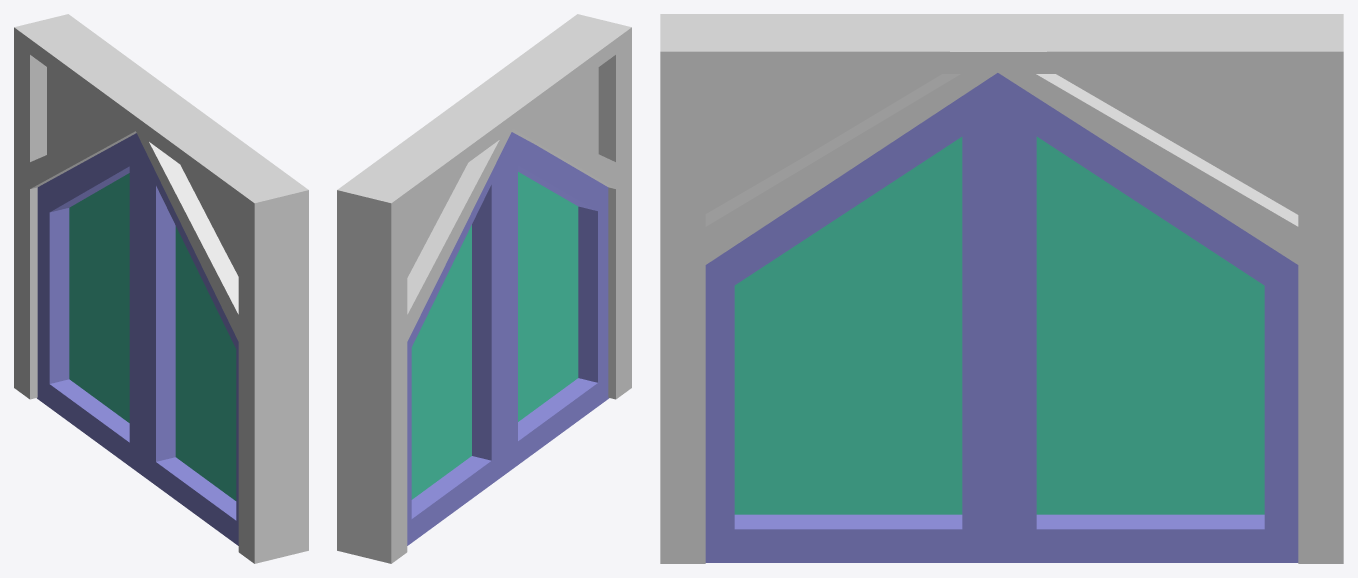
File: window.FBX
3 renders of one model, left to right at view 1: azimuth 30°, elevation 25°; view 2: azimuth 150°, elevation 25°; view 3: azimuth 270°, elevation 25°, orthographic. The views are drawn at different scales.
Visible parts, largest first — view 1: karmit002, window001, windowglass, doorglass003, doorglass004; view 2: karmit002, window001, windowglass, doorglass004, doorglass003; view 3: window001, karmit002, doorglass003, doorglass004.
Boxes of the visible parts, x1,y1,x2,y2 form: karmit002: (14, 14, 308, 563); window001: (37, 133, 238, 545); windowglass: (69, 173, 236, 500); doorglass003: (47, 67, 121, 154); doorglass004: (180, 165, 238, 276); karmit002: (337, 14, 631, 563); window001: (407, 132, 609, 545); windowglass: (411, 172, 578, 499); doorglass004: (526, 67, 598, 153); doorglass003: (407, 163, 467, 277); window001: (705, 73, 1298, 562); karmit002: (660, 14, 1343, 563); doorglass003: (1056, 74, 1298, 214); doorglass004: (705, 74, 941, 213).
Size of the model in its own units: 0.2947 by 1.87 by 2.26.
